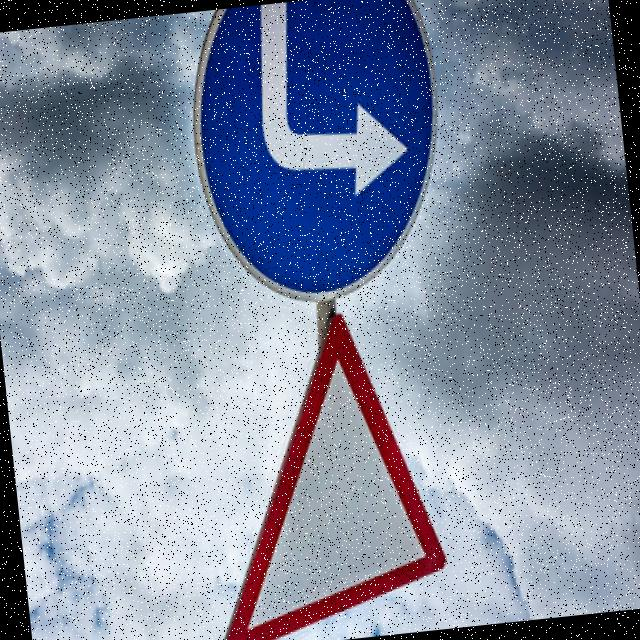compulsory_keep_right: (160, 0, 483, 328)
give_way: (173, 301, 480, 640)
